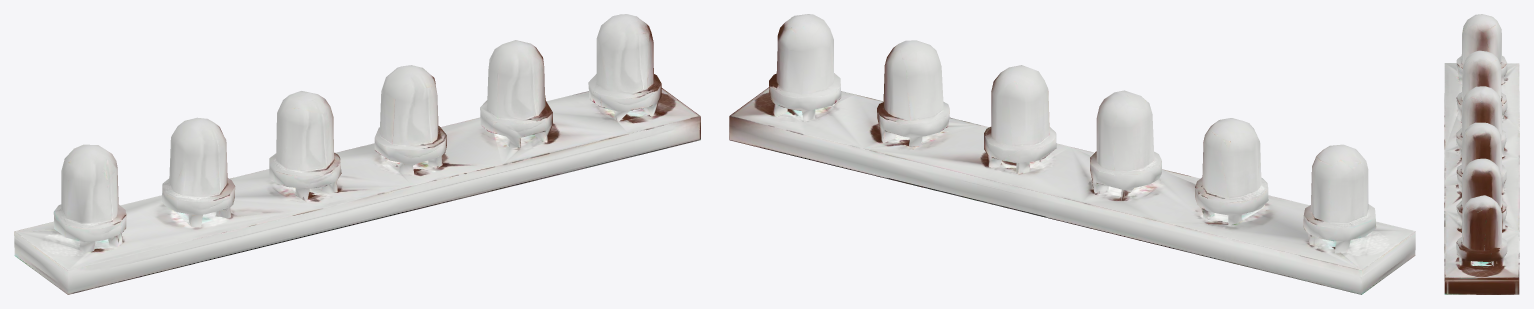
Rendered from RoverLED.glb.
3 renders of one model, left to right at view 1: azimuth 30°, elevation 25°; view 2: azimuth 150°, elevation 25°; view 3: azimuth 270°, elevation 25°, orthographic. The views are drawn at different scales.
Parts seen in each view (by area): view 1: Mesh_0; view 2: Mesh_0; view 3: Mesh_0.
Part boxes in pixels (x1=…): Mesh_0: x1=14, y1=14, x2=700, y2=294; Mesh_0: x1=729, y1=14, x2=1415, y2=294; Mesh_0: x1=1444, y1=14, x2=1519, y2=294.
Size of the model in its own units: 1.91 by 0.3391 by 0.2833.
1 material, 1 textured.
